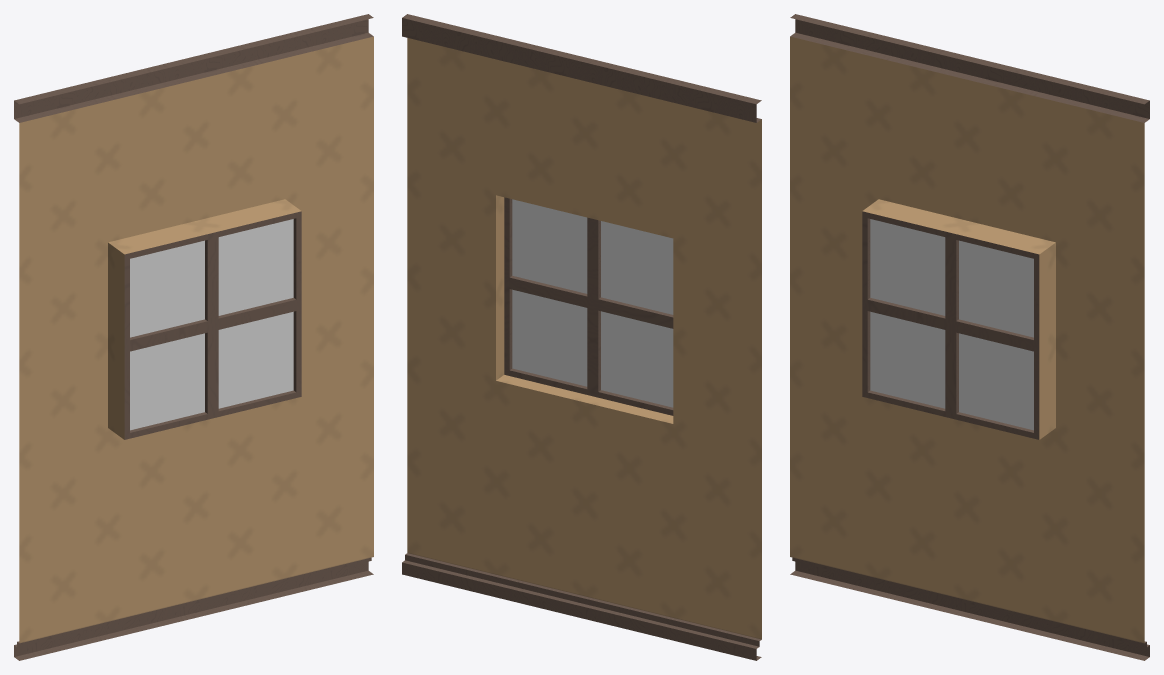
File: Wall Room Window.fbx
3 renders of one model, left to right at view 1: azimuth 30°, elevation 25°; view 2: azimuth 150°, elevation 25°; view 3: azimuth 330°, elevation 25°, orthographic.
Parts seen in each view (by area): view 1: Wall Room Window.001; view 2: Wall Room Window.001; view 3: Wall Room Window.001.
Boxes of the visible parts, x1=… form: Wall Room Window.001: x1=14, y1=14, x2=373, y2=660; Wall Room Window.001: x1=402, y1=14, x2=761, y2=660; Wall Room Window.001: x1=790, y1=14, x2=1149, y2=660.
Bounding box in the file's own units: 4 × 6 × 0.4263.
